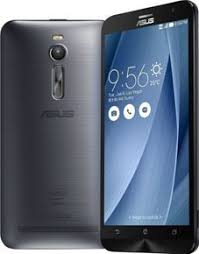asus: (100, 1, 199, 254), (1, 15, 104, 252)
